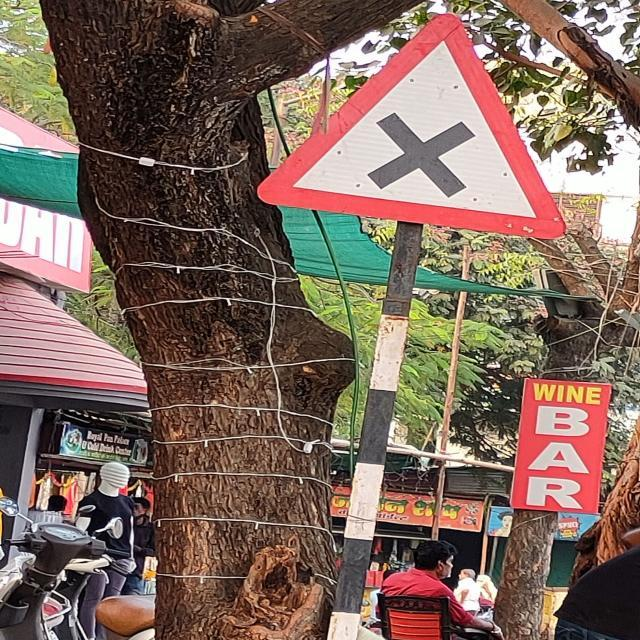cross road: (256, 12, 569, 242)
